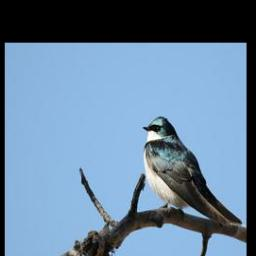Swallow: (141, 114, 243, 228)
